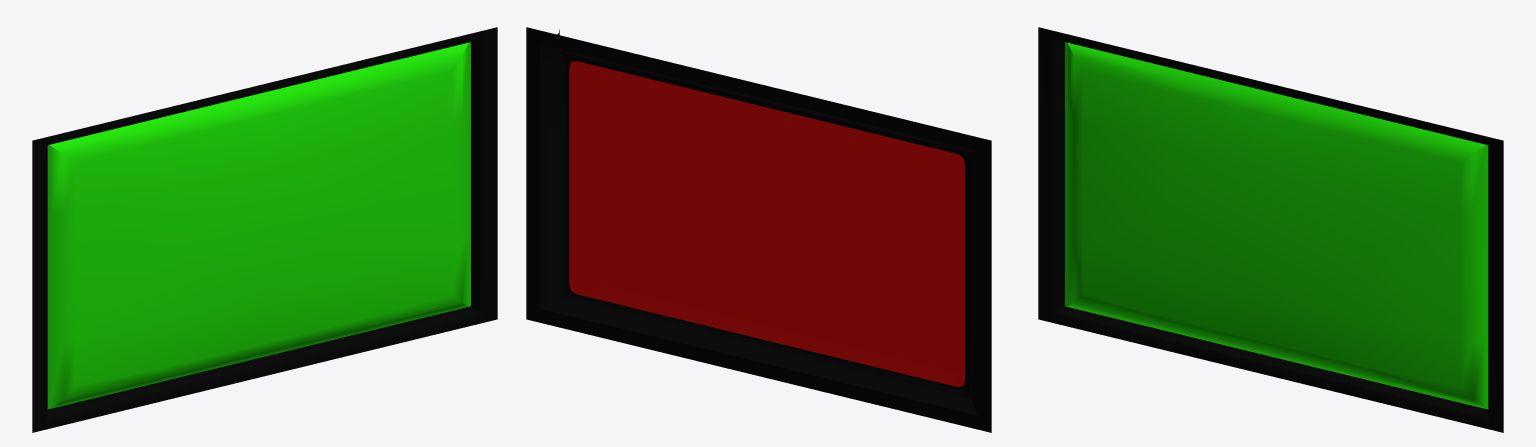
Rendered from BedRoomFakeWindow_low.fbx.
The picture shows the model from 3 angles, left to right: view 1: azimuth 30°, elevation 25°; view 2: azimuth 150°, elevation 25°; view 3: azimuth 330°, elevation 25°; orthographic projection.
Visible parts, largest first — view 1: BedroomFakeWindow_low; view 2: BedroomFakeWindow_low; view 3: BedroomFakeWindow_low.
Boxes of the visible parts, x1,y1,x2,y2 form: BedroomFakeWindow_low: (32,27,497,432); BedroomFakeWindow_low: (526,27,991,432); BedroomFakeWindow_low: (1038,27,1503,432).
Size of the model in its own units: 3 by 1.8 by 0.234.
